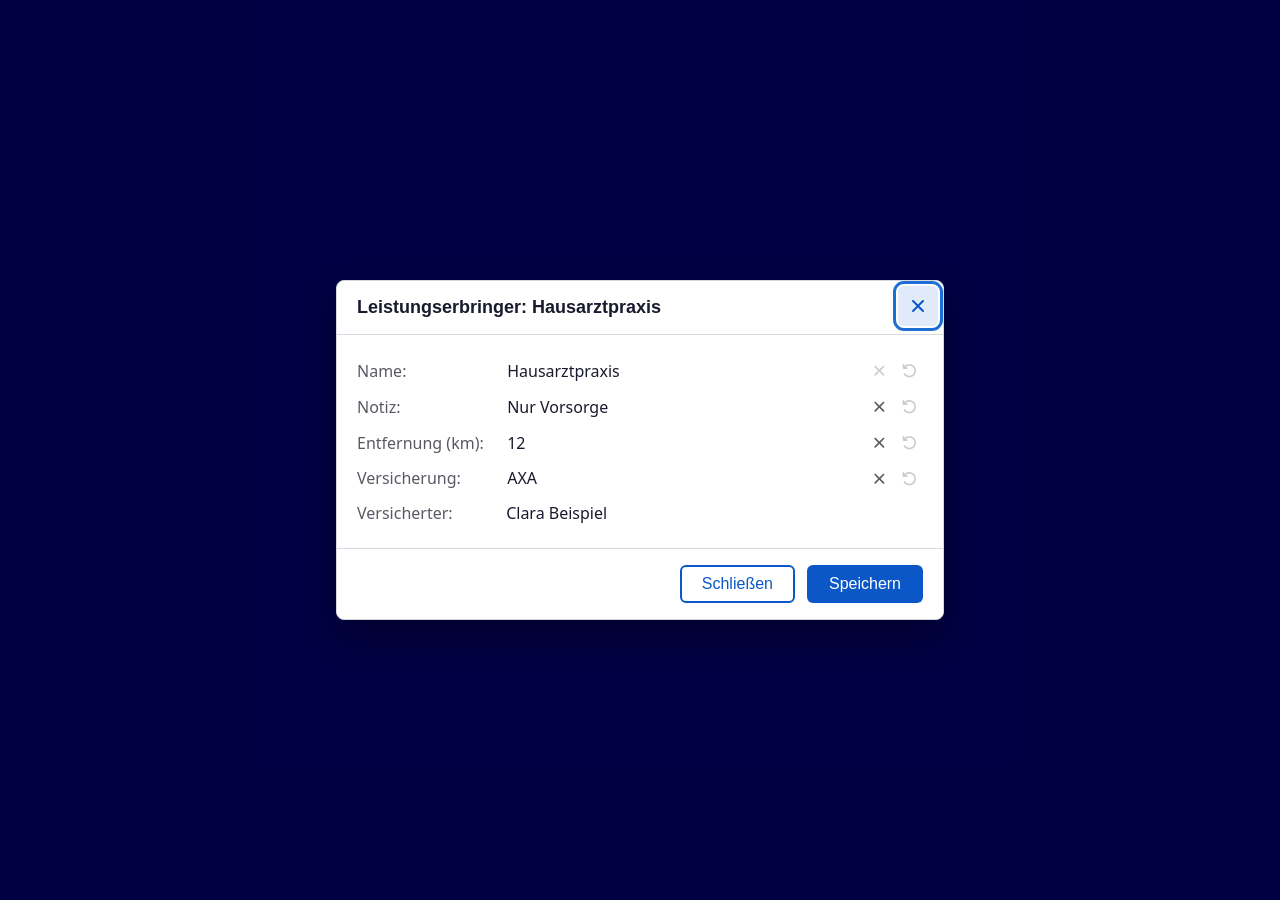
Test: ResourceDetailDialog › enables Reset only after a change and restores the saved value
Expected: the button named "Zurücksetzen" in the row of "Name" is disabled, [895,360,923,381]
Step 1. Replace the text in the field named "Name" with "Zahnarztpraxis" → (674, 371), box [500,355,849,386]
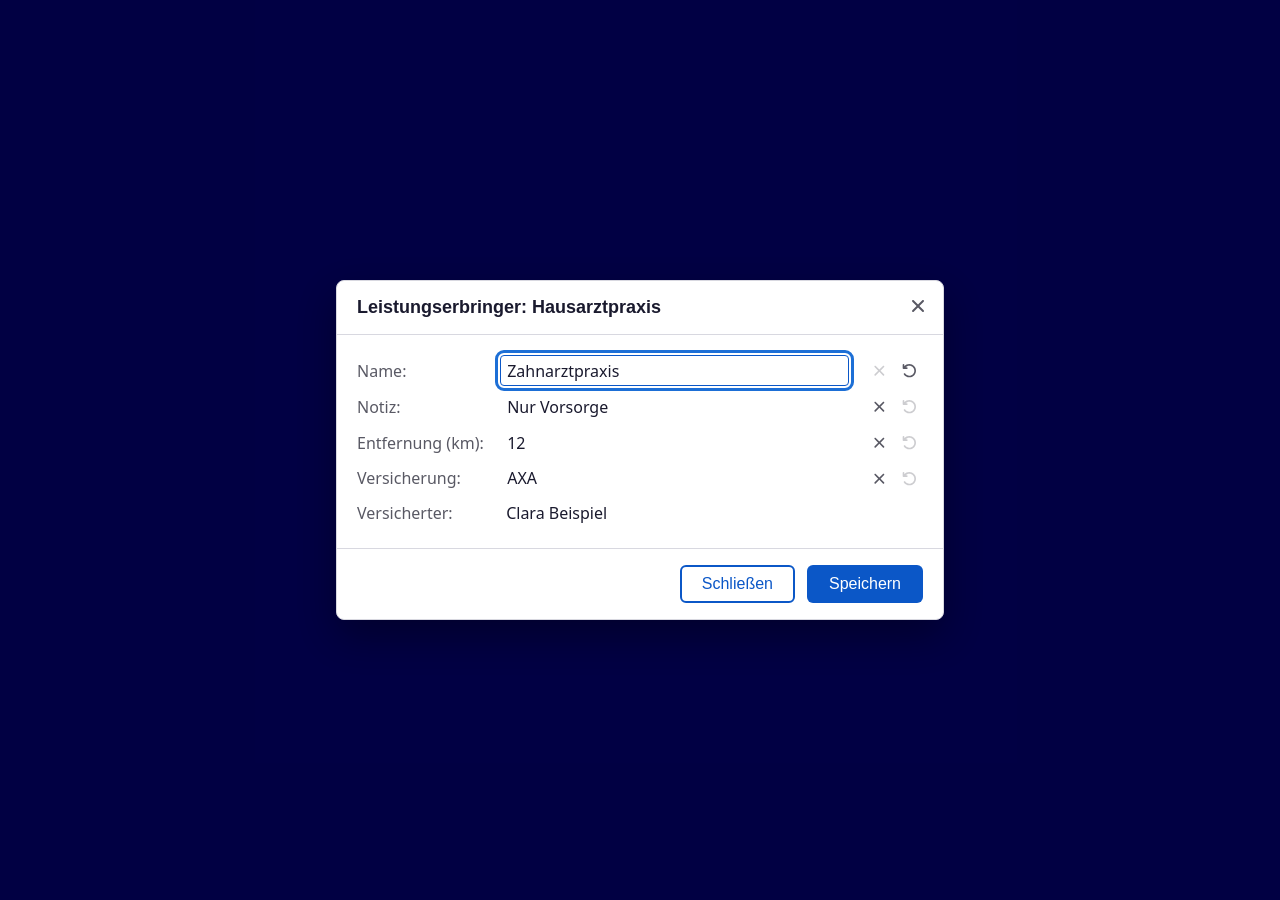
Now the button named "Zurücksetzen" in the row of "Name" is enabled
Step 2. Click the button named "Zurücksetzen" in the row of "Name" → click(909, 371), box [895,360,923,381]
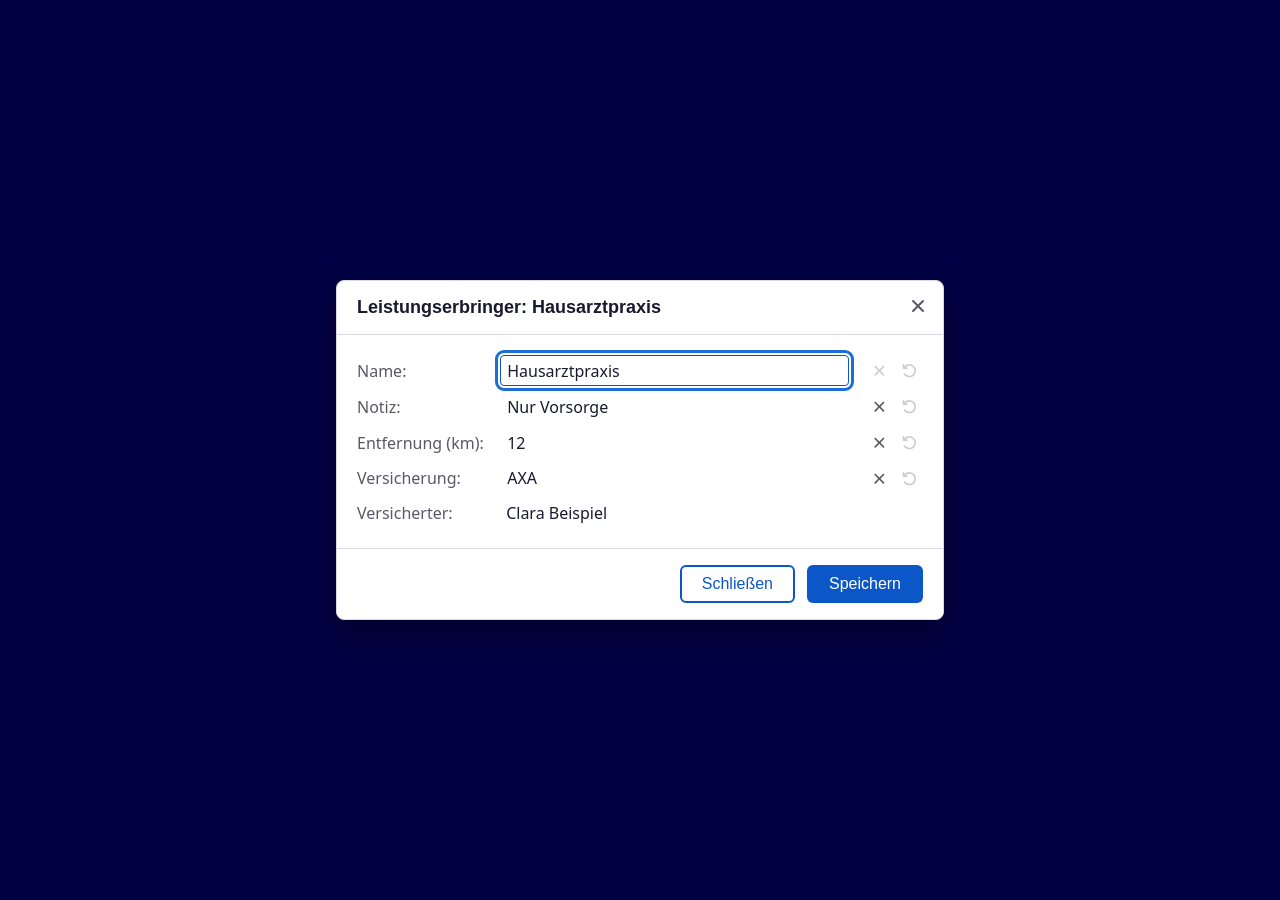
Now the field named "Name" holds "Hausarztpraxis", box [500,355,849,386]
